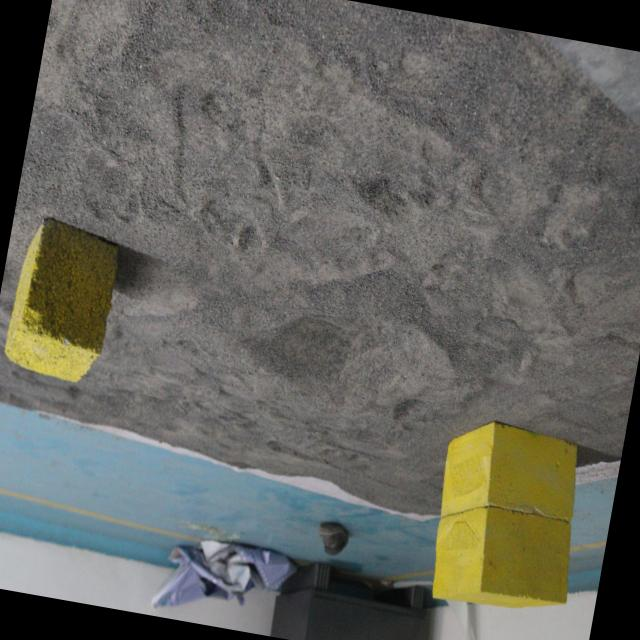box: (416, 412, 593, 618), (3, 218, 128, 394)
